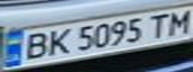0: (90, 20, 112, 50)
5: (124, 15, 151, 44), (72, 23, 96, 53)
9: (109, 17, 130, 47)
B: (15, 29, 54, 62)
K: (42, 26, 72, 57)
M: (163, 7, 193, 36)
T: (142, 11, 172, 39)
